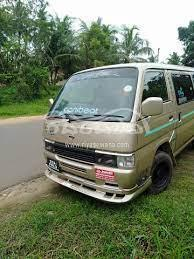van: (42, 61, 194, 207)
